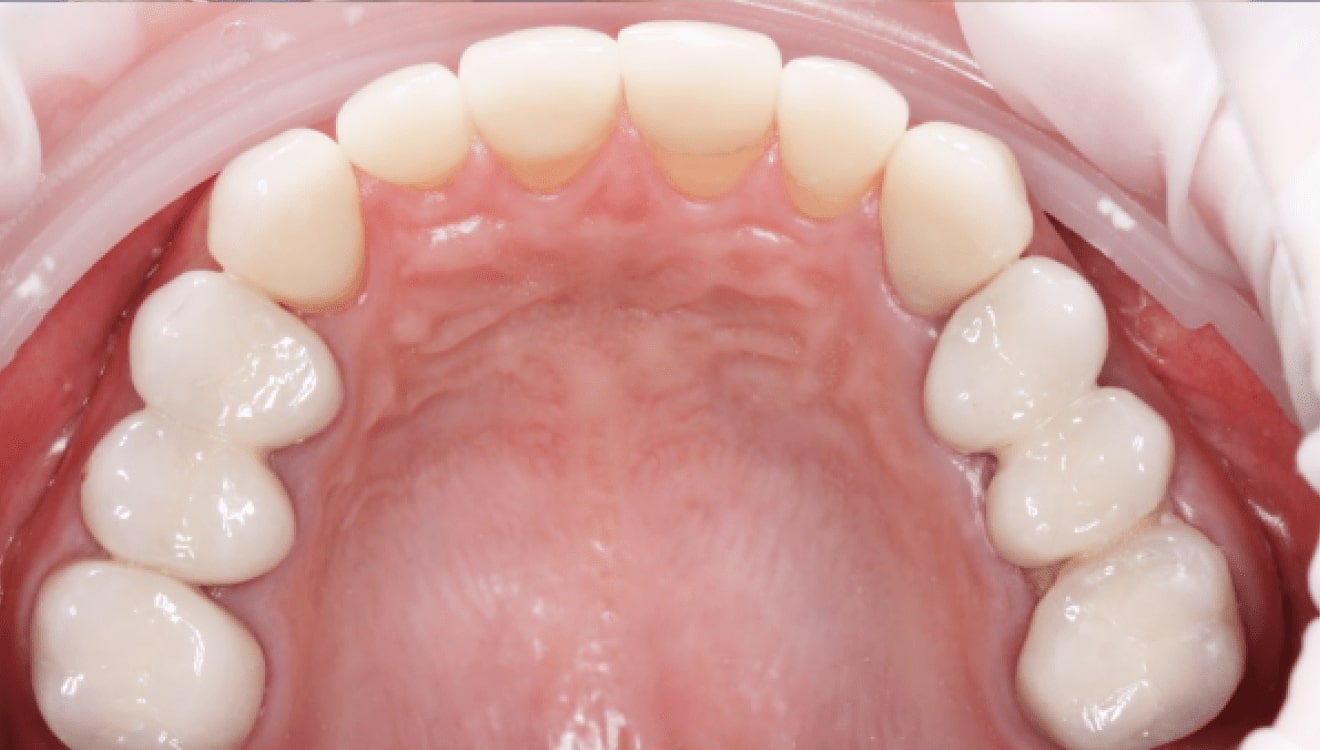UL1BC_healthy: (924, 254, 1109, 447)
UL1M_healthy: (1014, 523, 1243, 750)
UL2BC_healthy: (989, 389, 1170, 561)
ULCI_healthy: (624, 21, 781, 169)
ULC_healthy: (883, 123, 1031, 308)
ULLI_healthy: (783, 58, 908, 191)
UR1BC_healthy: (131, 274, 338, 448)
UR1M_healthy: (35, 566, 261, 750)
UR2BC_healthy: (83, 421, 294, 583)
URCI_healthy: (459, 28, 620, 181)
URC_healthy: (209, 128, 364, 304)
URLI_healthy: (335, 63, 461, 183)
